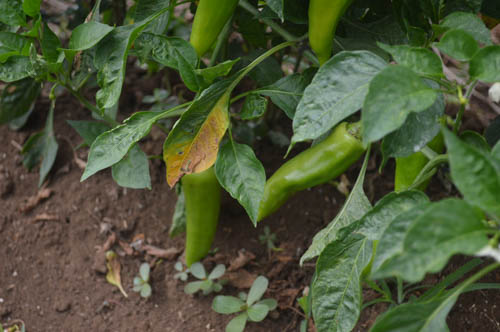ChiliPepper: (253, 125, 364, 224), (183, 173, 228, 269), (395, 126, 452, 201), (193, 2, 234, 66), (307, 1, 347, 64)
